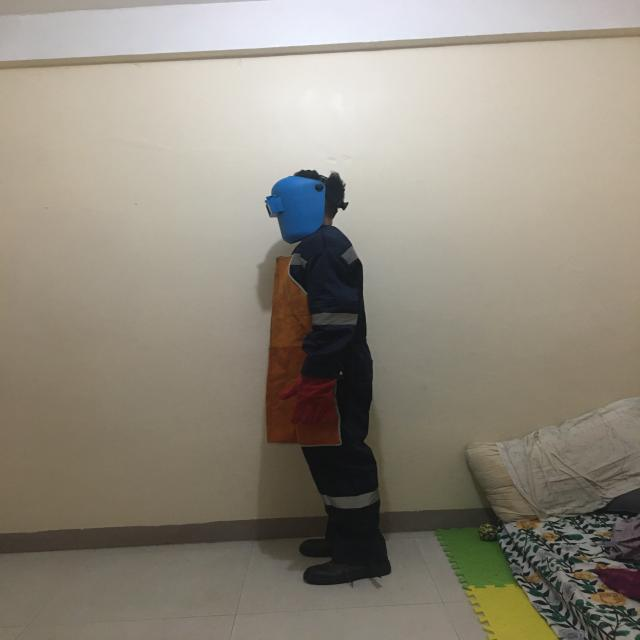with_helmet: (248, 163, 351, 243)
